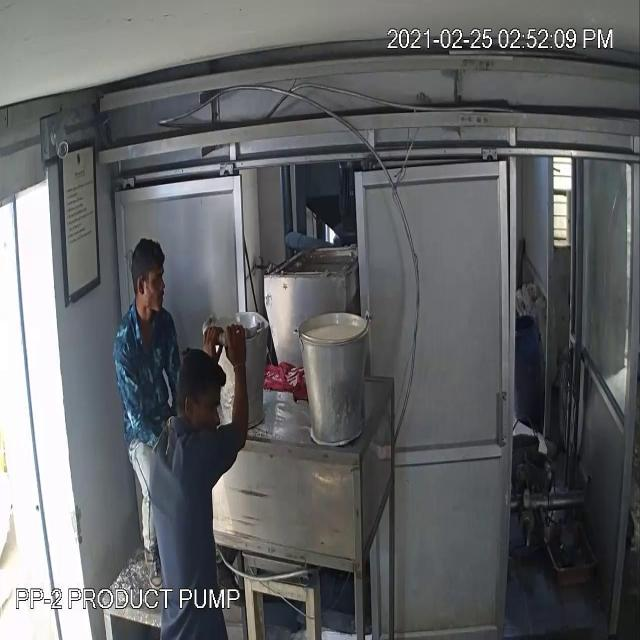no-helmet: (175, 343, 227, 409), (123, 232, 177, 288)
